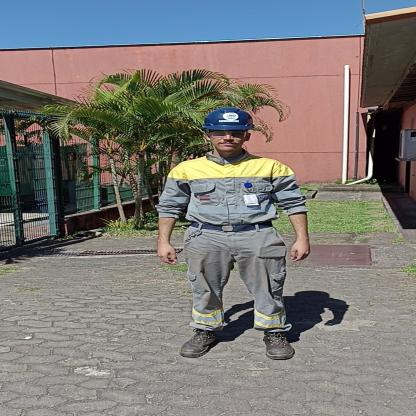Capacete: (200, 104, 256, 130)
